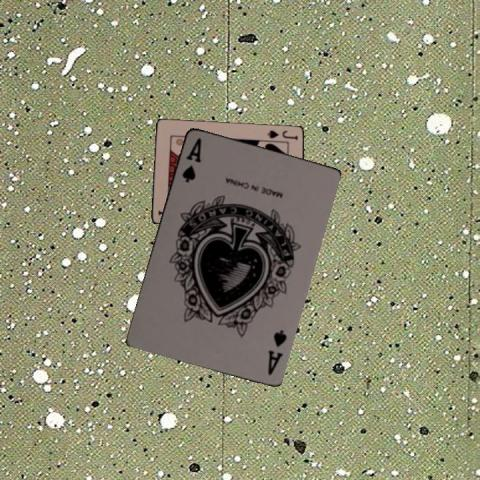As: (178, 134, 202, 184), (264, 326, 288, 376)
Js: (264, 127, 299, 142)
